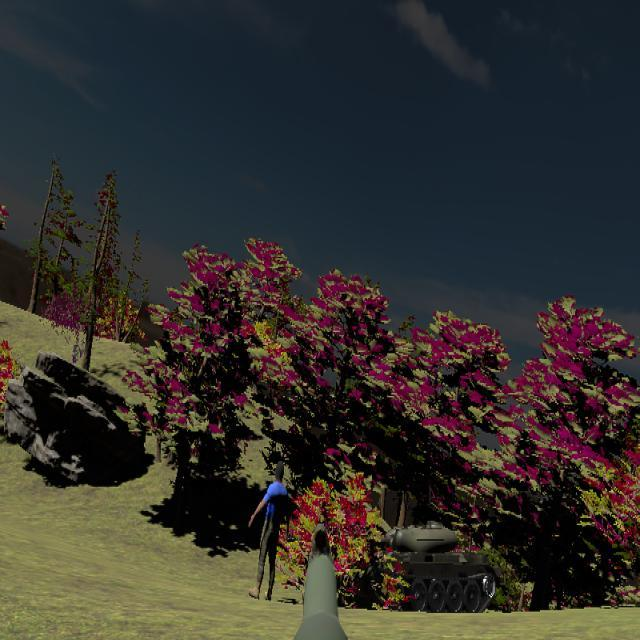Human: (247, 461, 293, 601)
Tank: (358, 518, 501, 615)
